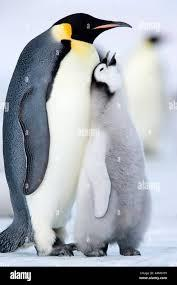emporer: (1, 13, 136, 249)
